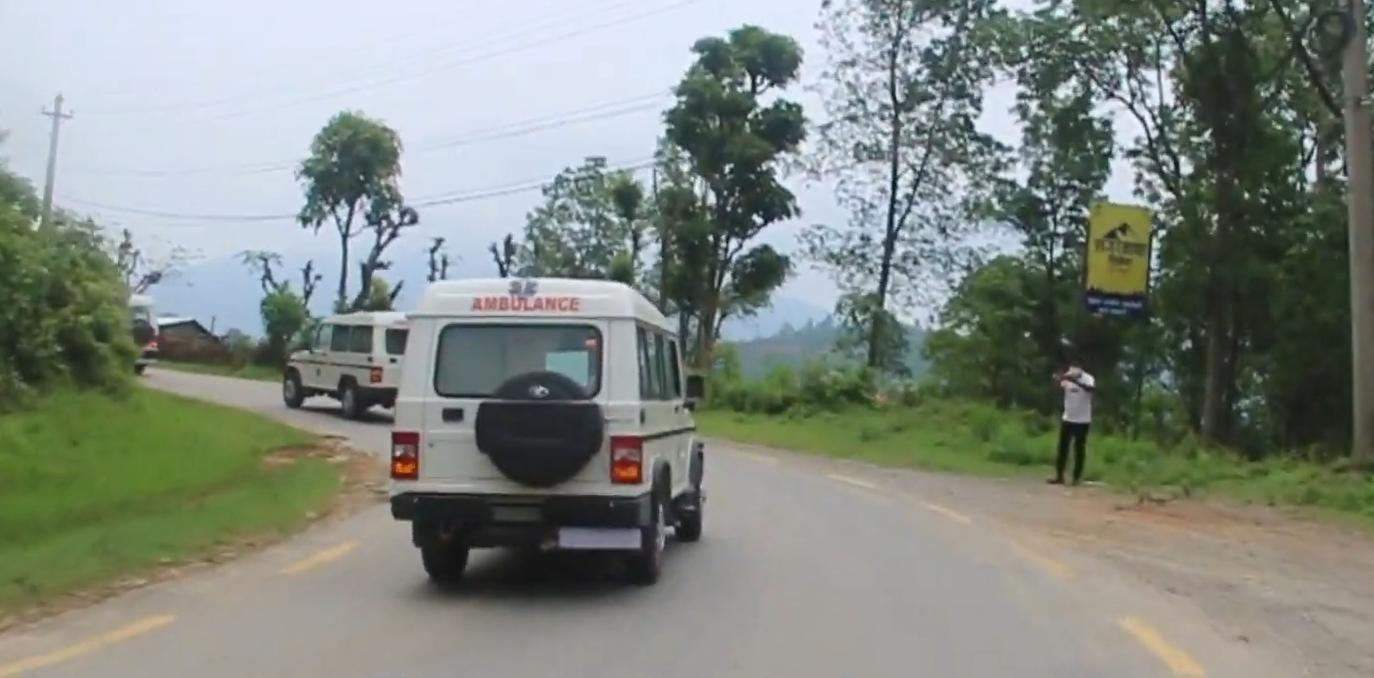ambulance: (382, 273, 710, 594), (276, 295, 418, 421)
